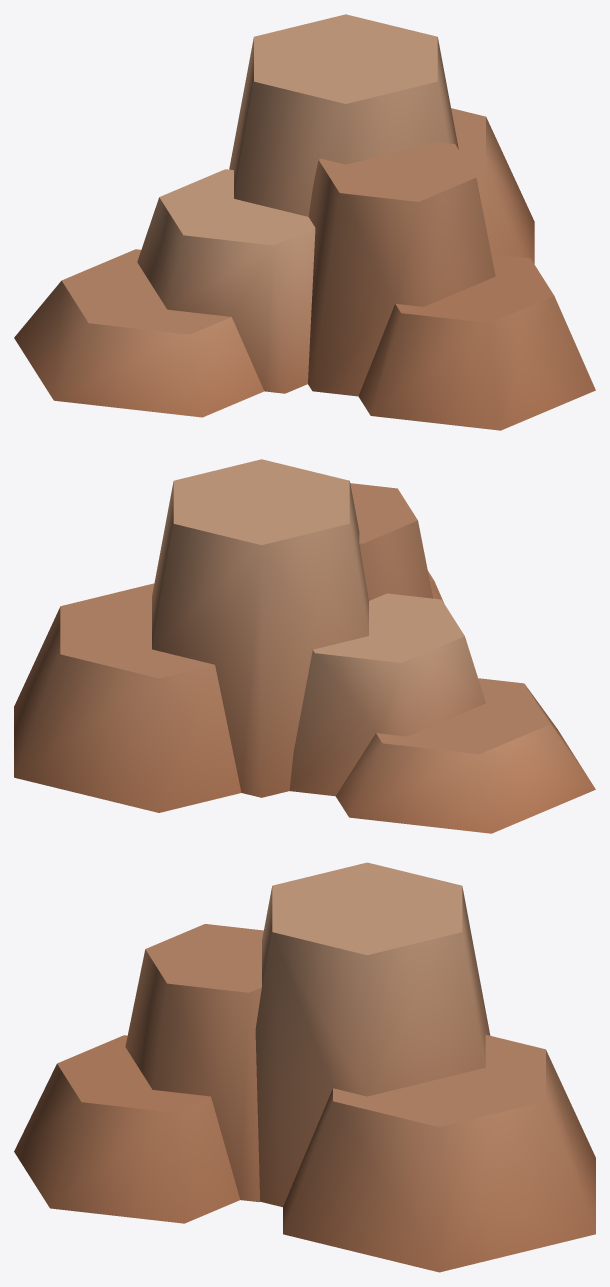
The model's file is resource-stone-large.glb.
The picture shows the model from 3 angles, top to bottom: view 1: azimuth 30°, elevation 25°; view 2: azimuth 150°, elevation 25°; view 3: azimuth 270°, elevation 25°; orthographic projection. The views are drawn at different scales.
Visible parts, largest first — view 1: resource-stone-large; view 2: resource-stone-large; view 3: resource-stone-large.
Part boxes in pixels (x1=…): resource-stone-large: x1=14, y1=14, x2=595, y2=430; resource-stone-large: x1=14, y1=459, x2=595, y2=833; resource-stone-large: x1=14, y1=862, x2=595, y2=1272.
Bounding box in the file's own units: 0.376 × 0.1602 × 0.3369.
